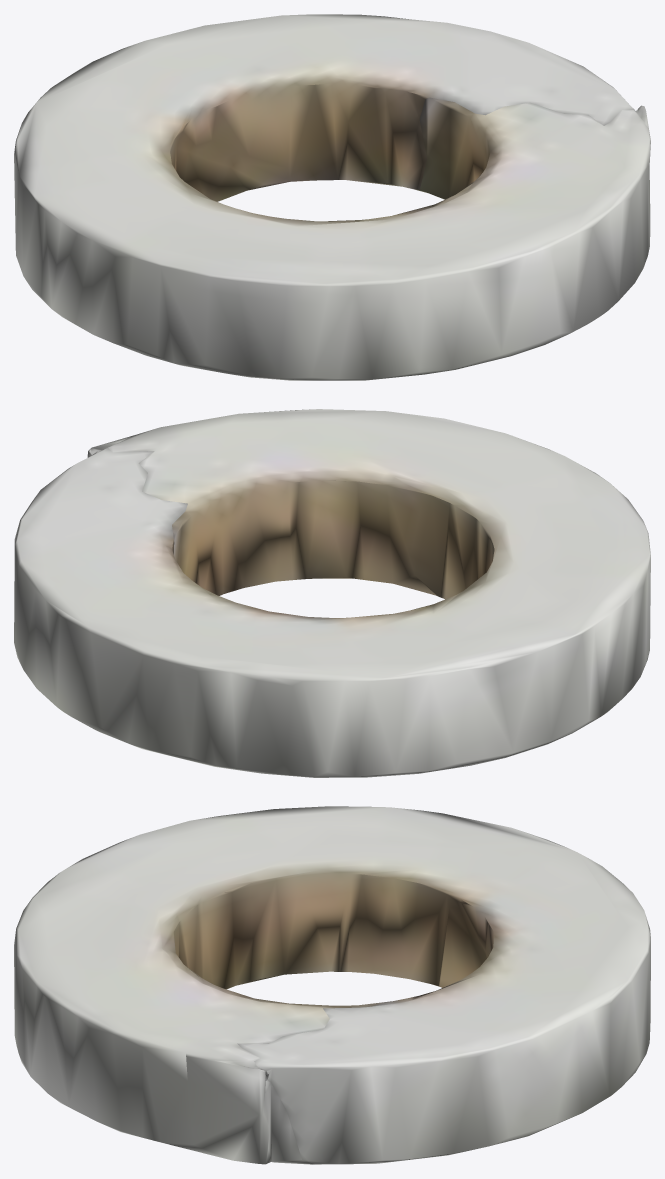
File: 3M_Antislip_Surfacing_Light_Duty_White-medium.glb
3 renders of one model, top to bottom at view 1: azimuth 30°, elevation 25°; view 2: azimuth 150°, elevation 25°; view 3: azimuth 270°, elevation 25°, orthographic.
Parts seen in each view (by area): view 1: 3M_Antislip_Surfacing_Light_Duty_White; view 2: 3M_Antislip_Surfacing_Light_Duty_White; view 3: 3M_Antislip_Surfacing_Light_Duty_White.
Boxes of the visible parts, left/top/right/bottom form: 3M_Antislip_Surfacing_Light_Duty_White: left=14, top=14, right=650, bottom=380; 3M_Antislip_Surfacing_Light_Duty_White: left=14, top=409, right=650, bottom=777; 3M_Antislip_Surfacing_Light_Duty_White: left=14, top=806, right=650, bottom=1164.
Size of the model in its own units: 0.1544 by 0.0285 by 0.1534.
1 material, 1 textured.
